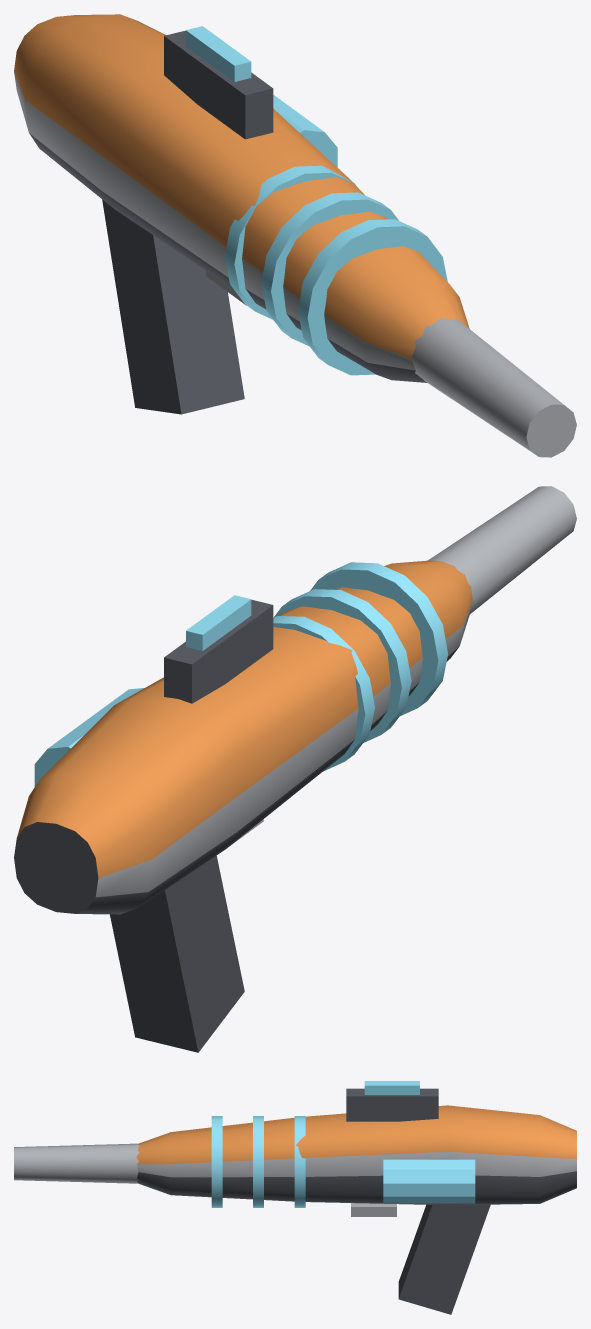
Rendered from multitool.fbx.
The picture shows the model from 3 angles, top to bottom: view 1: azimuth 30°, elevation 25°; view 2: azimuth 150°, elevation 25°; view 3: azimuth 270°, elevation 25°; orthographic projection. The views are drawn at different scales.
Parts seen in each view (by area): view 1: Body; view 2: Body; view 3: Body.
Part boxes in pixels (x1,y1,x2,y2): Body: (14, 14, 576, 457); Body: (14, 486, 576, 1052); Body: (14, 1081, 576, 1314).
Bounding box in the file's own units: 0.1288 × 0.2664 × 0.61.
